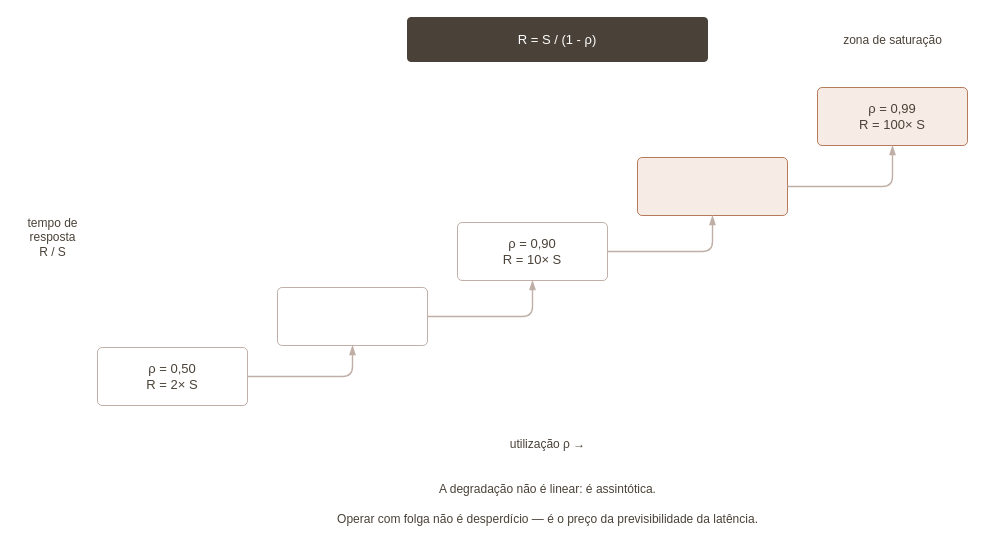
This 1004x549 diagram has some shape labels left out. Here are the shapes that lost their labels. From the top down, the centre of each, then its label:
At point 712,186: "ρ = 0,95 R = 20× S".
At point 352,316: "ρ = 0,80 R = 5× S".
